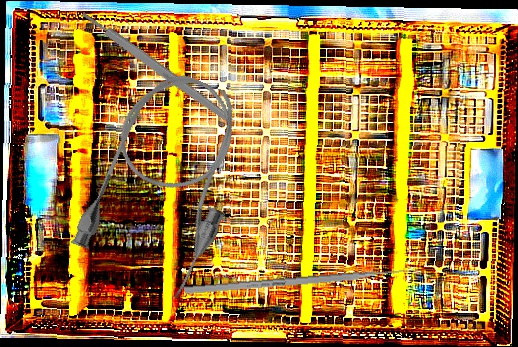Cannula: (66, 58, 268, 304)
Pusher: (184, 265, 420, 296)
Scalpel Handle: (80, 8, 233, 125)
